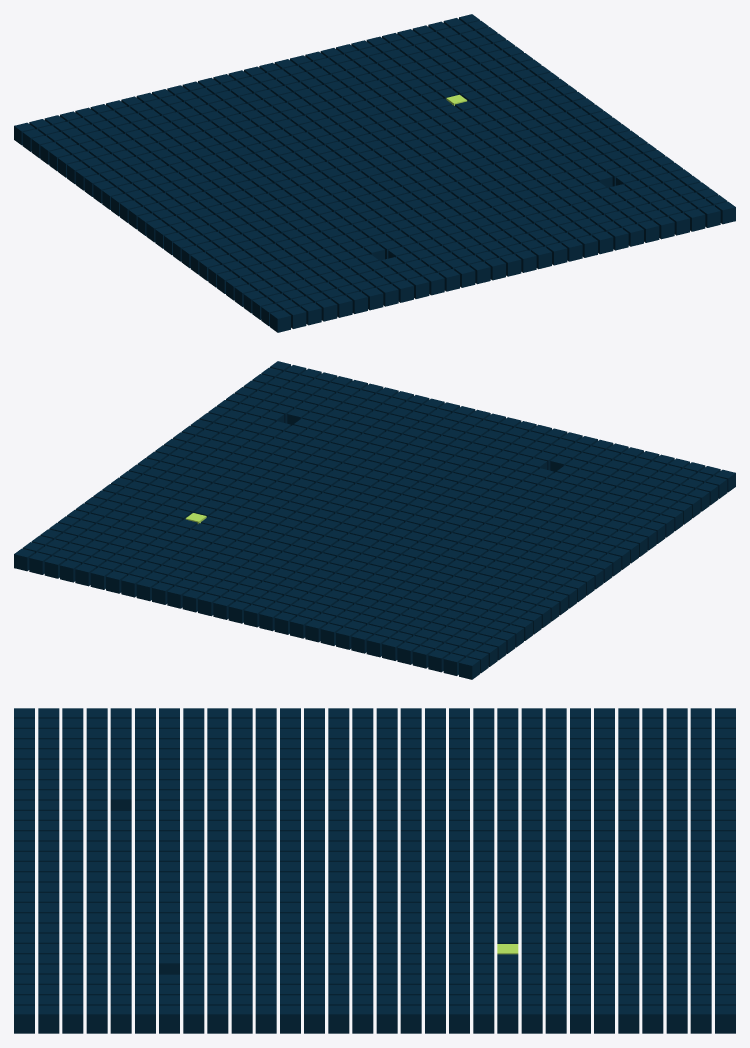
The model's file is fondo_grilla_menu (1).fbx.
The picture shows the model from 3 angles, top to bottom: view 1: azimuth 30°, elevation 25°; view 2: azimuth 150°, elevation 25°; view 3: azimuth 270°, elevation 25°; orthographic projection. The views are drawn at different scales.
Visible parts, largest first — view 1: no part large enough to name; view 2: no part large enough to name; view 3: Cube.061, Cube.091, Cube.121, Cube.151, Cube.241, Cube.271, Cube.301, Cube.331, Cube.421, Cube.451, Cube.481, Cube.511 (+18 smaller).
Boxes of the visible parts, bbox=[...] form: Cube.061: bbox=[690, 1005, 711, 1033]; Cube.091: bbox=[666, 1005, 687, 1033]; Cube.121: bbox=[642, 1005, 663, 1033]; Cube.151: bbox=[618, 1005, 639, 1033]; Cube.241: bbox=[545, 1005, 566, 1033]; Cube.271: bbox=[521, 1005, 542, 1033]; Cube.301: bbox=[497, 1005, 518, 1033]; Cube.331: bbox=[473, 1005, 494, 1033]; Cube.421: bbox=[400, 1005, 421, 1033]; Cube.451: bbox=[376, 1005, 397, 1033]; Cube.481: bbox=[352, 1005, 373, 1033]; Cube.511: bbox=[328, 1005, 349, 1033].
Bounding box in the file's own units: 3093 × 90.02 × 3084.
